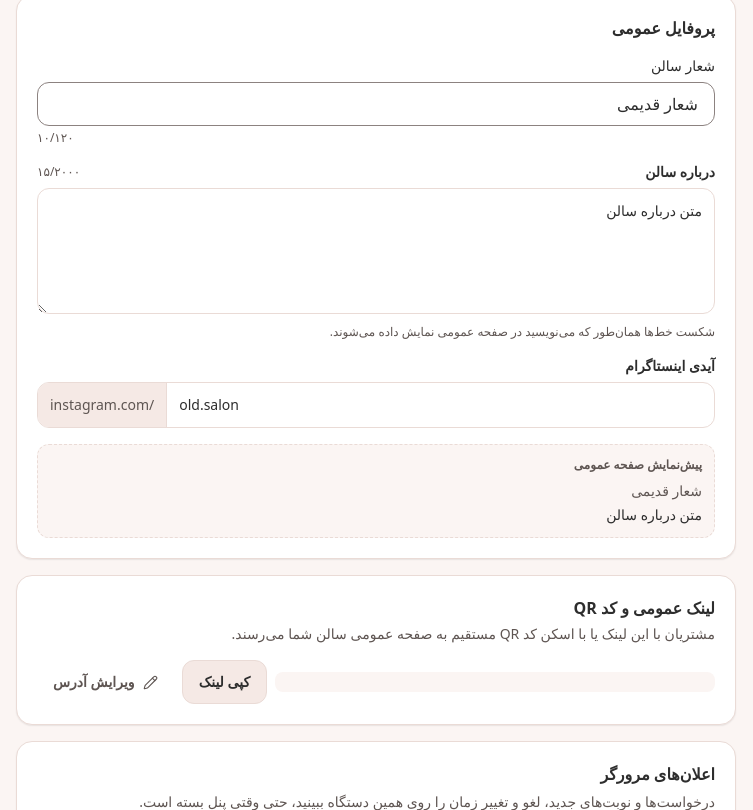
Test: SalonSettingsView › shows a Persian inline error and disables save while the instagram handle is invalid
The image size is (753, 810).
(page scrolled)
Replace the text in the field with test id "instagram-handle" with "سالن من!". click: x=441, y=405
box: [167,383,714,427]
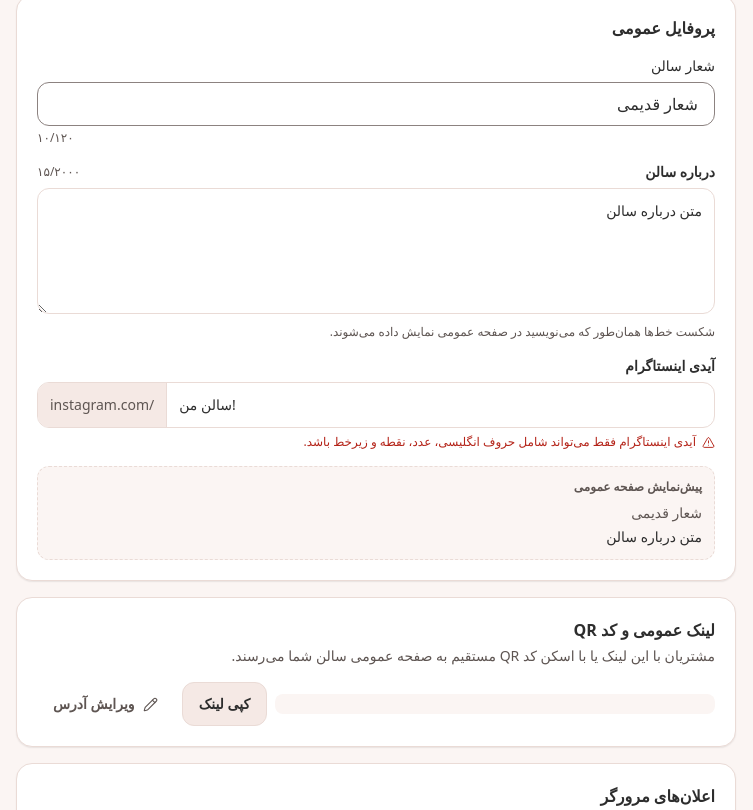
Check: the element with test id "instagram-error" shows "آیدی اینستاگرام", box [304,433,696,450]
Replace the text in the field with test id "instagram-handle" with "my.salon_1". click: x=441, y=405
box: [167,383,714,427]
(page scrolled)
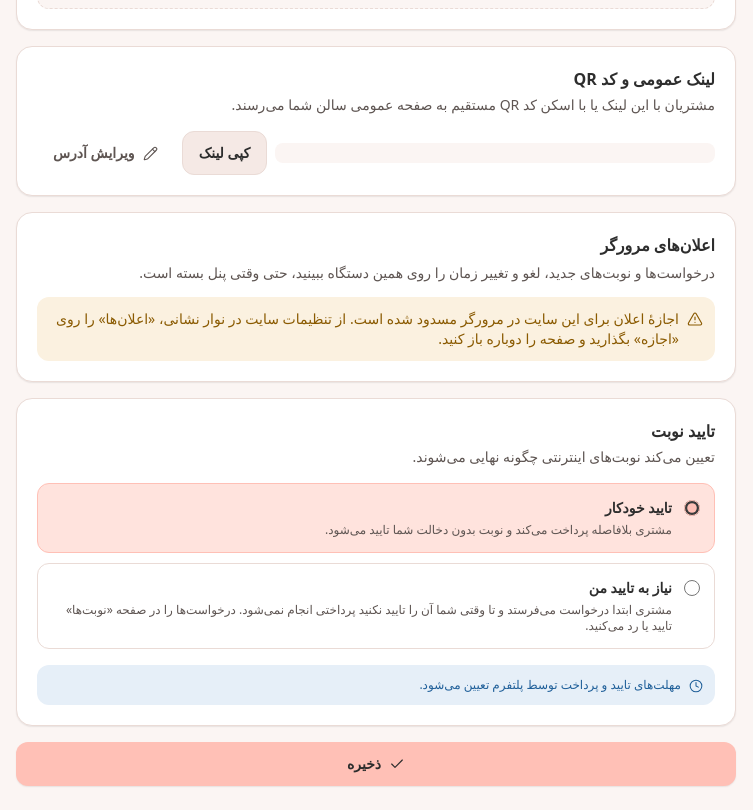
Check: the button with test id "save-button" is enabled, box [16,742,736,786]
